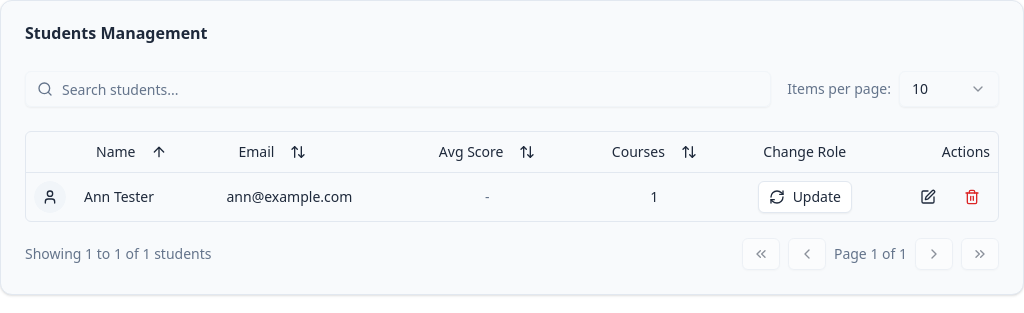
it: AdminStudentsTable › shows an empty state when nothing matches
Type "zzz" into the field with placeholder "Search students..." at point(398, 89), box [25,71,771,107]
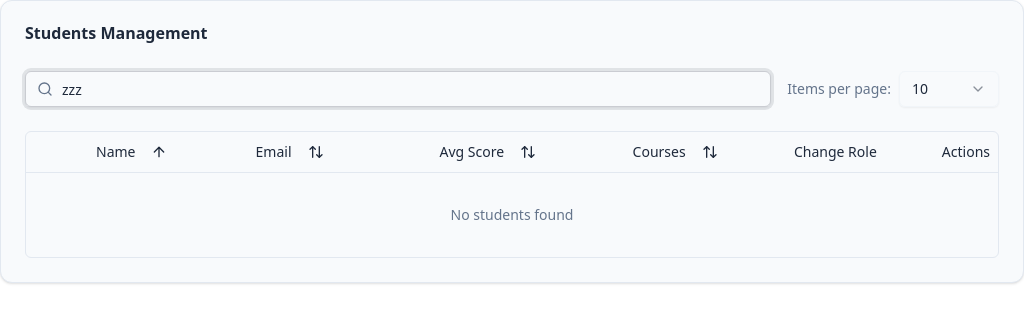
Expected: the text "No students found" is shown, [26,172,998,256]
